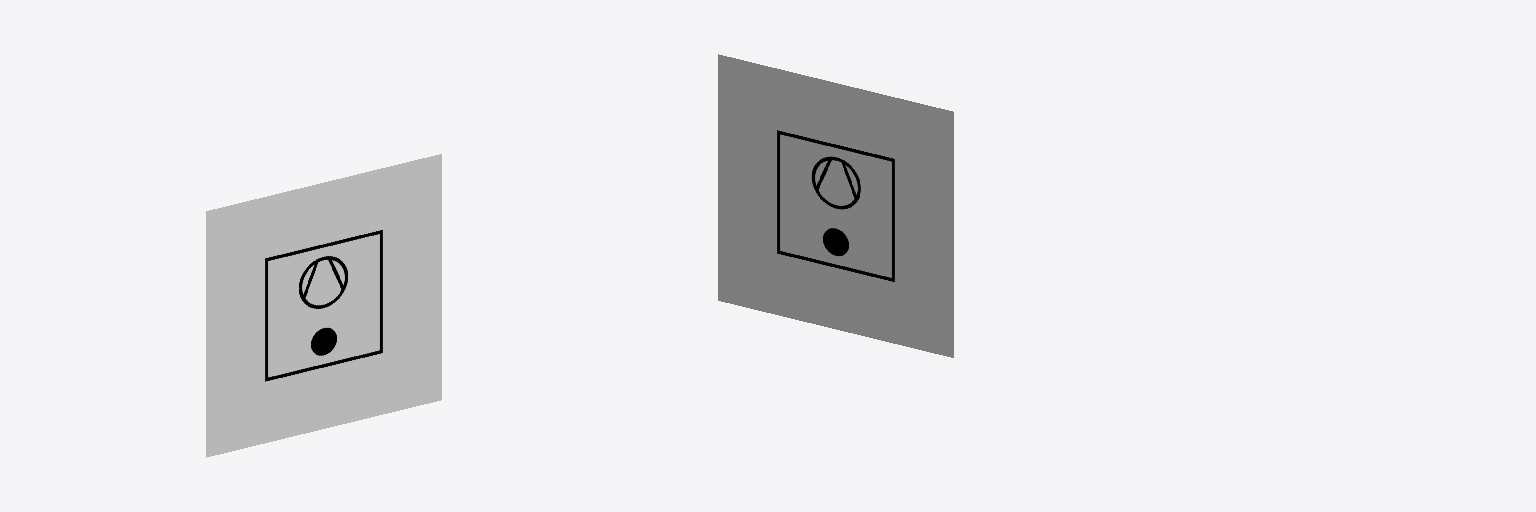
3 views of the same model, side by side, from view 1: azimuth 30°, elevation 25°; view 2: azimuth 150°, elevation 25°; view 3: azimuth 270°, elevation 25° (orthographic).
Visible parts, largest first — view 1: Mesh; view 2: Mesh; view 3: none.
Part boxes in pixels (bbox=[...]): Mesh: bbox=[206, 154, 441, 457]; Mesh: bbox=[718, 54, 953, 357].
Bounding box in the file's own units: 50 × 50 × 50.
2 materials, 2 textured.